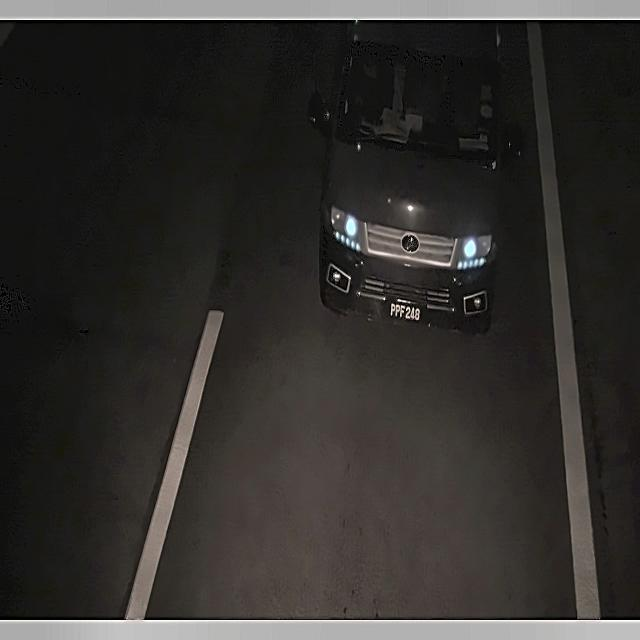car: (386, 290, 427, 328)
